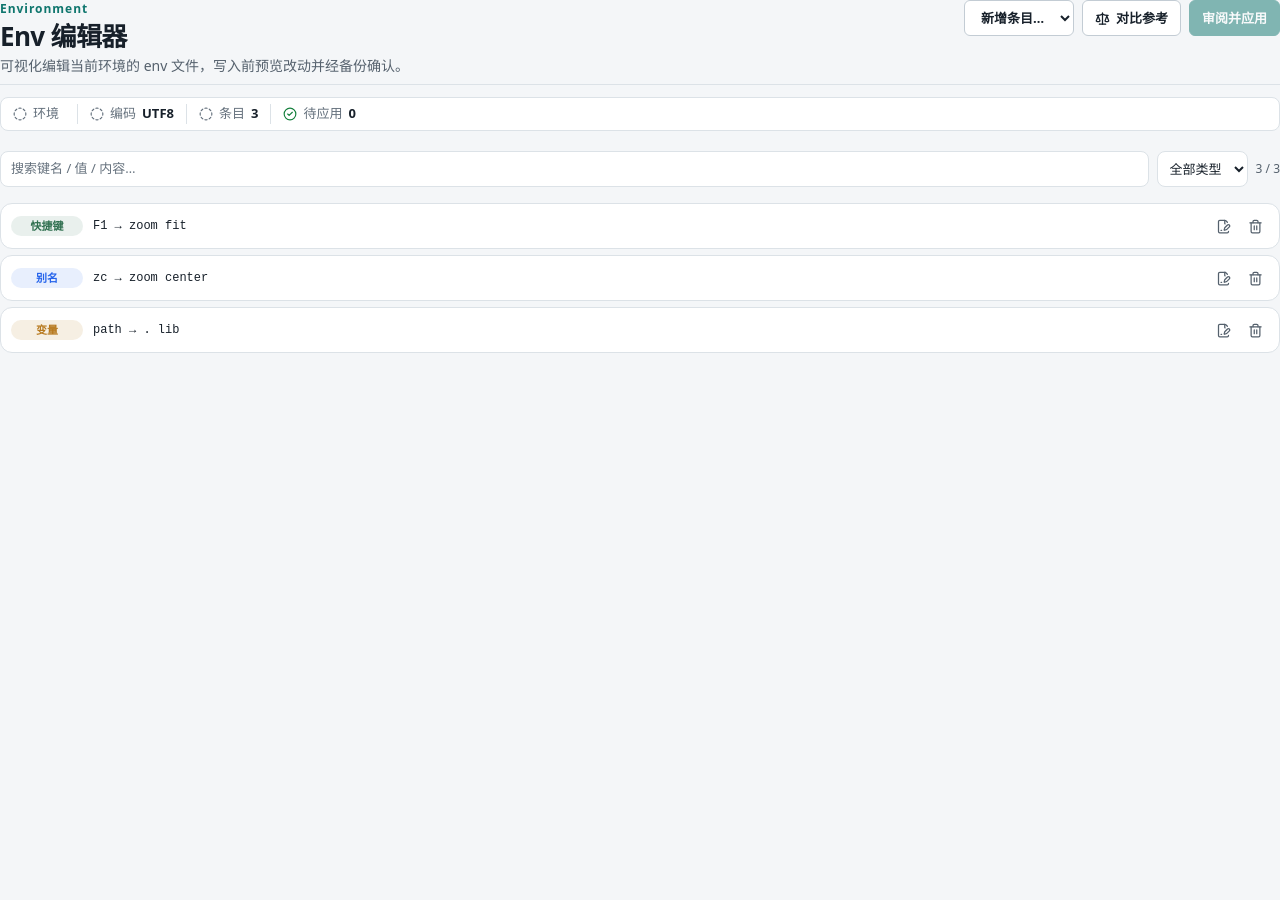
Test: EnvEditorPage - 渲染 › 编辑条目后应出现「待应用」状态
Expected: the number of list items with class "env-editor-row" is 3, x1=0 y1=203 x2=1279 y2=249; x1=0 y1=255 x2=1279 y2=301; x1=0 y1=307 x2=1279 y2=353
Click the button named "编辑" in the row of "F1 → zoom fit".
click(1223, 226)  # box x1=1209 y1=212 x2=1237 y2=240
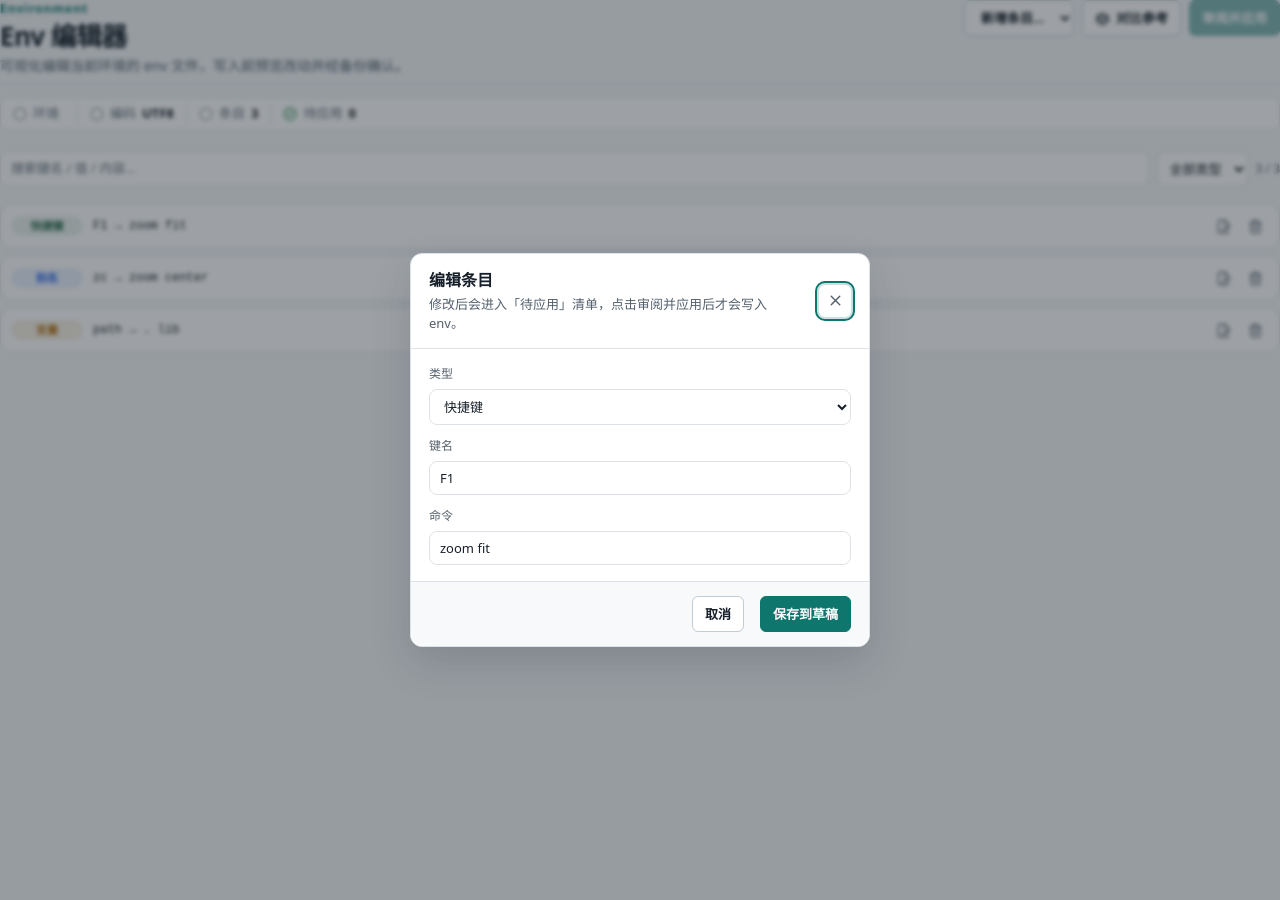
Expected: the dialog is shown, x1=410 y1=253 x2=870 y2=647
Type "F2" into the field labelled "键名".
click(640, 478); type("F2")  # box x1=429 y1=461 x2=851 y2=495
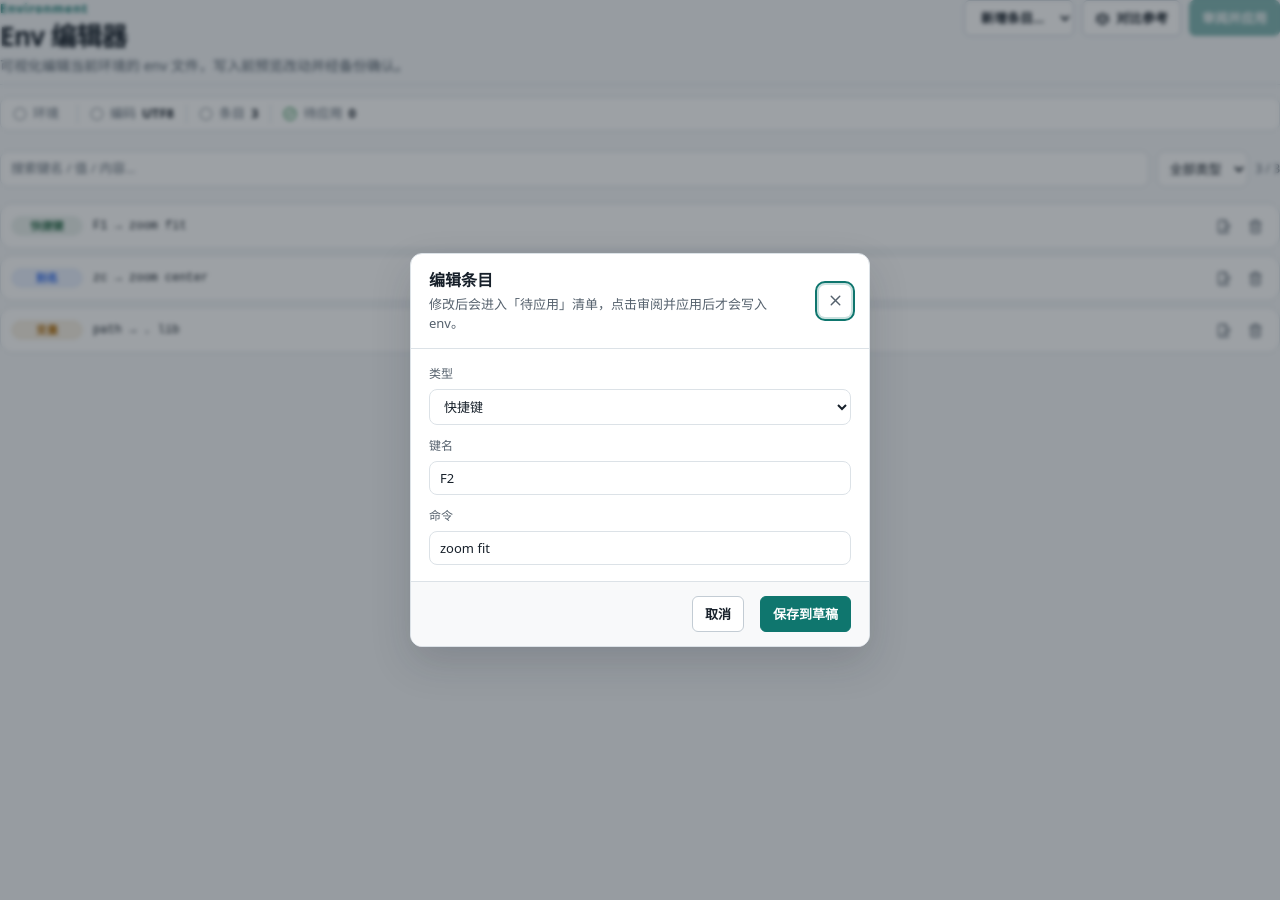
Click the button "保存到草稿".
click(806, 614)  # box x1=760 y1=596 x2=851 y2=632
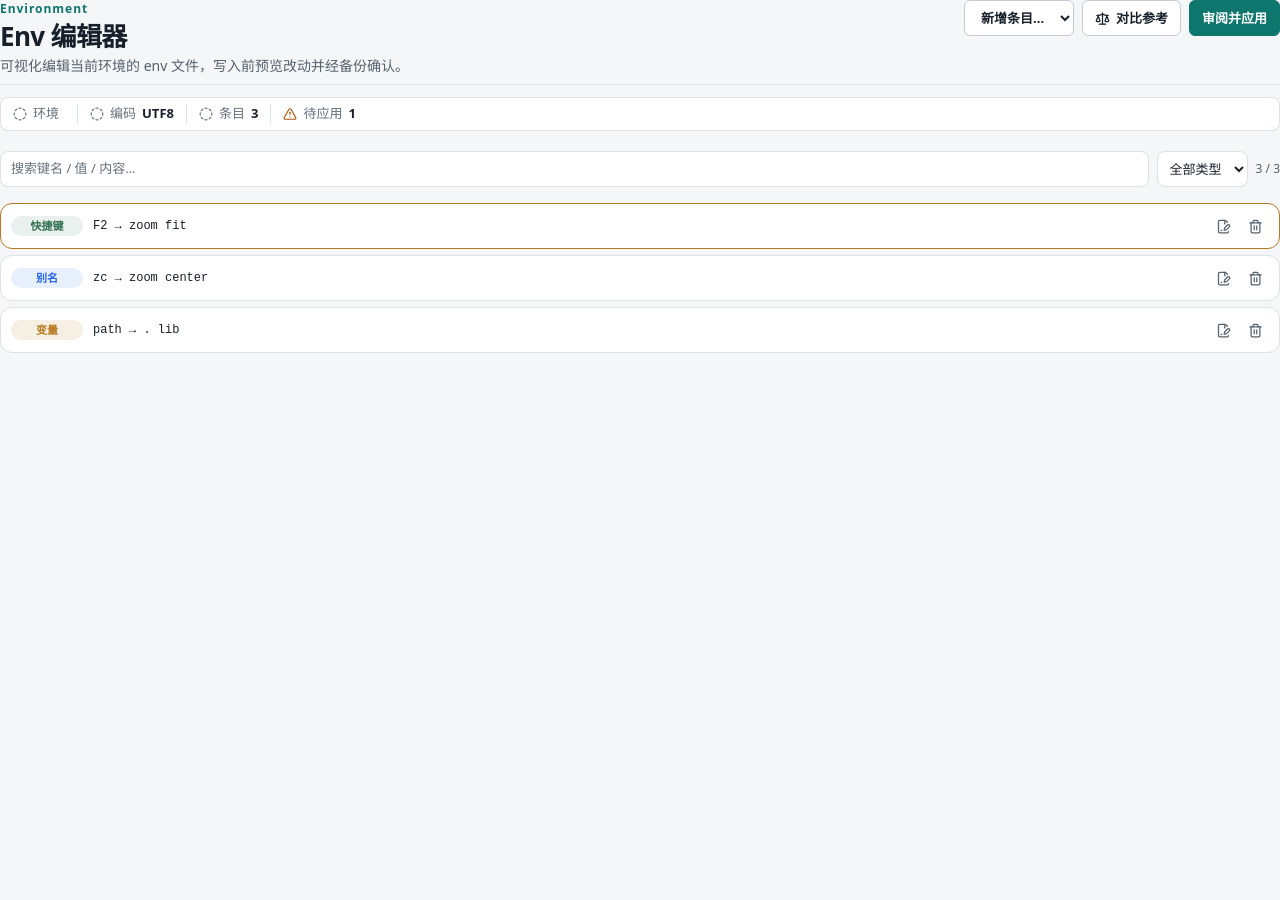
Expected: the list item with class "env-editor-row" showing "快捷键 F2 → zoom fit" is shown, x1=0 y1=203 x2=1279 y2=249
Expected: the text "F2 → zoom fit" is shown, x1=93 y1=219 x2=187 y2=233
